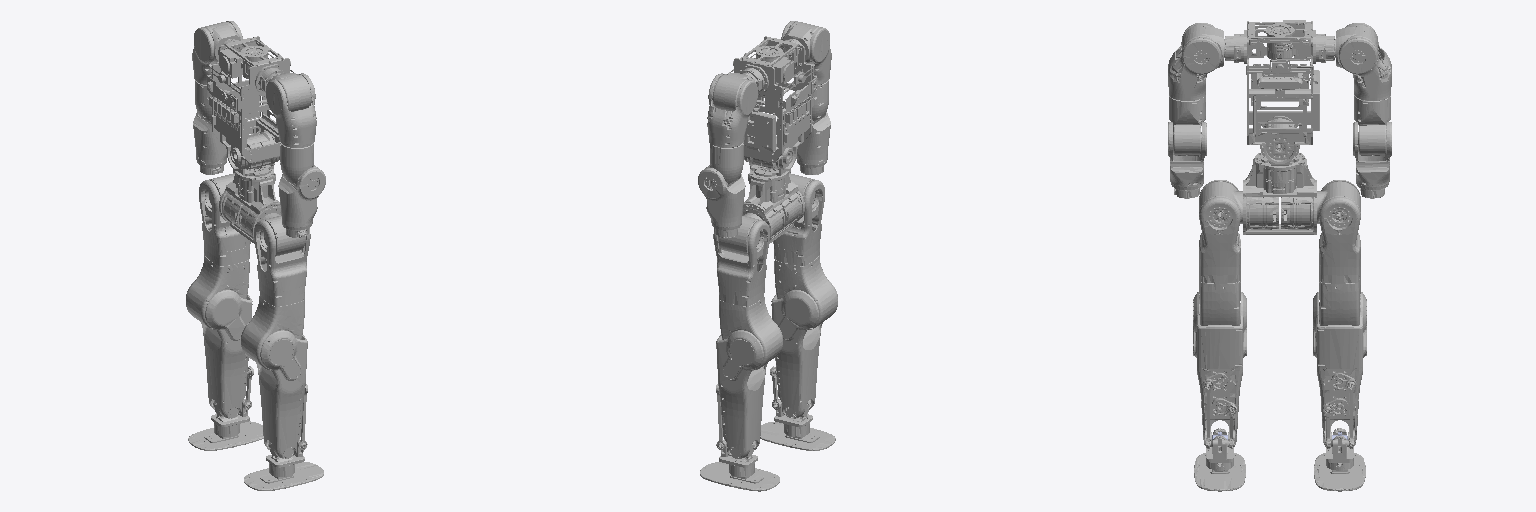
URDF robot description (gp2):
<?xml version='1.0' encoding='utf-8'?>
  <!-- This URDF was automatically created by SolidWorks to URDF Exporter! Originally created by [author] ([email redacted]) 
     Commit Version: 1.6.0-4-g7f85cfe  Build Version: 1.6.7995.38578
     For more information, please see http://wiki.ros.org/sw_urdf_exporter -->
<robot
  name="gp2">
  <mujoco>
        <compiler meshdir="../meshes/" balanceinertia="true" discardvisual="false" fusestatic="false"/>
  </mujoco>

  <link name="base_link">
    <inertial>
      <origin xyz="0 -0.004 0.025" rpy="0 0 0" />
      <mass value="0.987" />
      <inertia ixx="0.006" ixy="0" ixz="0" iyy="0.004" iyz="0" izz="0.003" />
    </inertial>
    <visual>
      <origin xyz="0 0 0" rpy="0 0 0" />
      <geometry>
        <mesh filename="../meshes/base_link.STL" />
      </geometry>
      <material name="">
        <color rgba="0.752941176470588 0.752941176470588 0.752941176470588 1" />
      </material>
    </visual>
    <collision>
      <origin xyz="0 0 0" rpy="0 0 0" />
      <geometry>
        <mesh filename="../meshes/base_link.STL" />
      </geometry>
    </collision>
  </link>

  <!-- Legs -->
  <link name="left_hip_pitch_link">
    <inertial>
      <origin xyz="0.002 0.045 0" rpy="0 0 0" />
      <mass value="0.422" />
      <inertia ixx="0.001" ixy="0" ixz="0" iyy="0.001" iyz="0" izz="0.001" />
    </inertial>
    <visual>
      <origin xyz="0 0 0" rpy="0 0 0" />
      <geometry>
        <mesh filename="../meshes/L_hip_pitch_link.STL" />
      </geometry>
      <material name="">
        <color rgba="0.75294 0.75294 0.75294 1" />
      </material>
    </visual>
    <!-- <collision>
      <origin xyz="0 0 0" rpy="0 0 0" />
      <geometry>
        <mesh filename="../meshes/L_hip_pitch_link.STL" />
      </geometry>
    </collision> -->
  </link>
  <joint name="left_hip_pitch_joint" type="revolute">
    <origin xyz="0 0.0790000000000005 0" rpy="0 0 0" />
    <parent link="base_link" />
    <child link="left_hip_pitch_link" />
    <axis xyz="0 1 0" />
    <limit lower="-2.62" upper="2.62" effort="88" velocity="32"/>
  </joint>
  <link name="left_hip_roll_link">
    <inertial>
      <origin xyz="-0.032 -0.001 -0.078" rpy="0 0 0" />
      <mass value="0.785" />
      <inertia ixx="0.008" ixy="0" ixz="0.002" iyy="0.009" iyz="0" izz="0.002" />
    </inertial>
    <visual>
      <origin xyz="0 0 0" rpy="0 0 0" />
      <geometry>
        <mesh filename="../meshes/L_hip_roll_link.STL" />
      </geometry>
      <material name="">
        <color rgba="0.752941176470588 0.752941176470588 0.752941176470588 1" />
      </material>
    </visual>
    <!-- <collision>
      <origin xyz="0 0 0" rpy="0 0 0" />
      <geometry>
        <mesh filename="../meshes/L_hip_roll_link.STL" />
      </geometry>
    </collision> -->
  </link>
  <joint name="left_hip_roll_joint" type="revolute">
    <origin xyz="0.0365999999999998 0.0499999999999994 0" rpy="0 0 0" />
    <parent link="left_hip_pitch_link" />
    <child link="left_hip_roll_link" />
    <axis xyz="1 0 0" />
    <limit lower="-0.17" upper="3.32" effort="88" velocity="32"/>
  </joint>
  <link name="left_hip_yaw_link">
    <inertial>
      <origin xyz="-0.019 -0.007 -0.08" rpy="0 0 0" />
      <mass value="0.865" />
      <inertia ixx="0.008" ixy="0" ixz="0.002" iyy="0.009" iyz="0" izz="0.002" />
    </inertial>
    <visual>
      <origin xyz="0 0 0" rpy="0 0 0" />
      <geometry>
        <mesh filename="../meshes/L_hip_yaw_link.STL" />
      </geometry>
      <material name="">
        <color rgba="0.752941176470588 0.752941176470588 0.752941176470588 1" />
      </material>
    </visual>
    <!-- <collision>
      <origin xyz="0 0 0" rpy="0 0 0" />
      <geometry>
        <mesh filename="../meshes/L_hip_yaw_link.STL" />
      </geometry>
    </collision> -->
  </link>
  <joint name="left_hip_yaw_joint" type="revolute">
    <origin xyz="-0.0365999999999971 0 -0.156600000000001" rpy="0 0 0" />
    <parent link="left_hip_roll_link" />
    <child link="left_hip_yaw_link" />
    <axis xyz="0 0 1" />
    <limit lower="-2.62" upper="2.62" effort="88" velocity="32"/>
  </joint>
  <link name="left_knee_link">
    <inertial>
      <origin xyz="0.033 -0.041 -0.132" rpy="0 0 0" />
      <mass value="2.033" />
      <inertia ixx="0.058" ixy="0" ixz="0" iyy="0.056" iyz="0" izz="0.011" />
    </inertial>
    <visual>
      <origin xyz="0 0 0" rpy="0 0 0" />
      <geometry>
        <mesh filename="../meshes/L_knee_link.STL" />
      </geometry>
      <material name="">
        <color rgba="0.752941176470588 0.752941176470588 0.752941176470588 1" />
      </material>
    </visual>
    <!-- <collision>
      <origin xyz="0 0 0" rpy="0 0 0" />
      <geometry>
        <mesh filename="../meshes/L_knee_link.STL" />
      </geometry>
    </collision> -->
  </link>
  <joint name="left_knee_joint" type="revolute">
    <origin xyz="-0.0349999999999989 0.0406000000000009 -0.113900000000001" rpy="0 0 0" />
    <parent link="left_hip_yaw_link" />
    <child link="left_knee_link" />
    <axis xyz="0 1 0" />
    <limit lower="-0.17" upper="2.97" effort="139" velocity="20"/>
  </joint>
  <link name="left_ankle_pitch_link">
    <inertial>
      <origin xyz="0 -0.016 0" rpy="0 0 0" />
      <mass value="0.056" />
      <inertia ixx="0.0001" ixy="0" ixz="0" iyy="0.0001" iyz="0" izz="0.0001" />
    </inertial>
    <visual>
      <origin xyz="0 0 0" rpy="0 0 0" />
      <geometry>
        <mesh filename="../meshes/L_ankle_pitch_link.STL" />
      </geometry>
      <material name="">
        <color rgba="0.792156862745098 0.819607843137255 0.929411764705882 1" />
      </material>
    </visual>
    <!-- <collision>
      <origin xyz="0 0 0" rpy="0 0 0" />
      <geometry>
        <mesh filename="../meshes/L_ankle_pitch_link.STL" />
      </geometry>
    </collision> -->
  </link>
  <joint name="left_ankle_pitch_joint" type="revolute">
    <origin xyz="0.0349999999999996 -0.0241 -0.279999999999994" rpy="0 0 0" />
    <parent link="left_knee_link" />
    <child link="left_ankle_pitch_link" />
    <axis xyz="0 1 0" />
    <limit lower="-0.87267" upper="0.5236" effort="50" velocity="37"/>
  </joint>
  <link name="left_ankle_roll_link">
    <inertial>
      <origin xyz="-0.006 0 -0.046" rpy="0 0 0" />
      <mass value="0.625" />
      <inertia ixx="0.002" ixy="0" ixz="0" iyy="0.003" iyz="0" izz="0.001" />
    </inertial>
    <visual>
      <origin xyz="0 0 0" rpy="0 0 0" />
      <geometry>
        <mesh filename="../meshes/L_ankle_roll_link.STL" />
      </geometry>
      <material name="">
        <color rgba="0.752941176470588 0.752941176470588 0.752941176470588 1" />
      </material>
    </visual>
    <collision>
      <origin xyz="0 0 0" rpy="0 0 0" />
      <geometry>
        <mesh filename="../meshes/L_ankle_roll_link.STL" />
      </geometry>
    </collision>
  </link>
  <joint name="left_ankle_roll_joint" type="revolute">
    <origin xyz="0.015 -0.0165 0" rpy="0 0 0" />
    <parent link="left_ankle_pitch_link" />
    <child link="left_ankle_roll_link" />
    <axis xyz="1 0 0" />
    <limit lower="-0.2618" upper="0.2618" effort="50" velocity="37"/>
  </joint>
  <link name="right_hip_pitch_link">
    <inertial>
      <origin xyz="0.002 -0.045 0" rpy="0 0 0" />
      <mass value="0.422" />
      <inertia ixx="0.001" ixy="0" ixz="0" iyy="0.001" iyz="0" izz="0.001" />
    </inertial>
    <visual>
      <origin xyz="0 0 0" rpy="0 0 0" />
      <geometry>
        <mesh filename="../meshes/R_hip_pitch_link.STL" />
      </geometry>
      <material name="">
        <color rgba="0.75294 0.75294 0.75294 1" />
      </material>
    </visual>
    <!-- <collision>
      <origin xyz="0 0 0" rpy="0 0 0" />
      <geometry>
        <mesh filename="../meshes/R_hip_pitch_link.STL" />
      </geometry>
    </collision> -->
  </link>
  <joint name="right_hip_pitch_joint" type="revolute">
    <origin xyz="0 -0.079 0" rpy="0 0 0" />
    <parent link="base_link" />
    <child link="right_hip_pitch_link" />
    <axis xyz="0 1 0" />
    <limit lower="-2.62" upper="2.62" effort="88" velocity="32"/>
  </joint>
  <link name="right_hip_roll_link">
    <inertial>
      <origin xyz="-0.032 0.001 -0.078" rpy="0 0 0" />
      <mass value="0.785" />
      <inertia ixx="0.008" ixy="0" ixz="0.002" iyy="0.009" iyz="0" izz="0.002" />
    </inertial>
    <visual>
      <origin xyz="0 0 0" rpy="0 0 0" />
      <geometry>
        <mesh filename="../meshes/R_hip_roll_link.STL" />
      </geometry>
      <material name="">
        <color rgba="0.75294 0.75294 0.75294 1" />
      </material>
    </visual>
    <!-- <collision>
      <origin xyz="0 0 0" rpy="0 0 0" />
      <geometry>
        <mesh filename="../meshes/R_hip_roll_link.STL" />
      </geometry>
    </collision> -->
  </link>
  <joint name="right_hip_roll_joint" type="revolute">
    <origin xyz="0.0366 -0.05 0" rpy="0 0 0" />
    <parent link="right_hip_pitch_link" />
    <child link="right_hip_roll_link" />
    <axis xyz="1 0 0" />
    <limit lower="-3.32" upper="0.17" effort="88" velocity="32"/>
  </joint>
  <link name="right_hip_yaw_link">
    <inertial>
      <origin xyz="-0.019 0.007 -0.08" rpy="0 0 0" />
      <mass value="0.865" />
      <inertia ixx="0.008" ixy="0" ixz="0.002" iyy="0.009" iyz="0" izz="0.002" />
    </inertial>
    <visual>
      <origin xyz="0 0 0" rpy="0 0 0" />
      <geometry>
        <mesh filename="../meshes/R_hip_yaw_link.STL" />
      </geometry>
      <material name="">
        <color rgba="0.75294 0.75294 0.75294 1" />
      </material>
    </visual>
    <!-- <collision>
      <origin xyz="0 0 0" rpy="0 0 0" />
      <geometry>
        <mesh filename="../meshes/R_hip_yaw_link.STL" />
      </geometry>
    </collision> -->
  </link>
  <joint name="right_hip_yaw_joint" type="revolute">
    <origin xyz="-0.0365999999999974 0 -0.156599999999998" rpy="0 0 0" />
    <parent link="right_hip_roll_link" />
    <child link="right_hip_yaw_link" />
    <axis xyz="0 0 1" />
    <limit lower="-2.62" upper="2.62" effort="88" velocity="32"/>
  </joint>
  <link name="right_knee_link">
    <inertial>
      <origin xyz="0.033 0.041 -0.132" rpy="0 0 0" />
      <mass value="2.033" />
      <inertia ixx="0.058" ixy="0" ixz="0" iyy="0.056" iyz="0" izz="0.011" />
    </inertial>
    <visual>
      <origin xyz="0 0 0" rpy="0 0 0" />
      <geometry>
        <mesh filename="../meshes/R_knee_link.STL" />
      </geometry>
      <material name="">
        <color rgba="0.75294 0.75294 0.75294 1" />
      </material>
    </visual>
    <!-- <collision>
      <origin xyz="0 0 0" rpy="0 0 0" />
      <geometry>
        <mesh filename="../meshes/R_knee_link.STL" />
      </geometry>
    </collision> -->
  </link>
  <joint name="right_knee_joint" type="revolute">
    <origin xyz="-0.0349999999999989 -0.0406000000000009 -0.113900000000001" rpy="0 0 0" />
    <parent link="right_hip_yaw_link" />
    <child link="right_knee_link" />
    <axis xyz="0 1 0" />
    <limit lower="-0.17" upper="2.97" effort="139" velocity="20"/>
  </joint>
  <link name="right_ankle_pitch_link">
    <inertial>
      <origin xyz="0 0.017 0" rpy="0 0 0" />
      <mass value="0.056" />
      <inertia ixx="0.0001" ixy="0" ixz="0" iyy="0.0001" iyz="0" izz="0.0001" />
    </inertial>
    <visual>
      <origin xyz="0 0 0" rpy="0 0 0" />
      <geometry>
        <mesh filename="../meshes/R_ankle_pitch_link.STL" />
      </geometry>
      <material name="">
        <color rgba="0.79216 0.81961 0.93333 1" />
      </material>
    </visual>
    <!-- <collision>
      <origin xyz="0 0 0" rpy="0 0 0" />
      <geometry>
        <mesh filename="../meshes/R_ankle_pitch_link.STL" />
      </geometry>
    </collision> -->
  </link>
  <joint name="right_ankle_pitch_joint" type="revolute">
    <origin xyz="0.0349999999999923 0.0241 -0.279999999999994" rpy="0 0 0" />
    <parent link="right_knee_link" />
    <child link="right_ankle_pitch_link" />
    <axis xyz="0 1 0" />
    <limit lower="-0.87267" upper="0.5236" effort="50" velocity="37"/>
  </joint>
  <link name="right_ankle_roll_link">
    <inertial>
      <origin xyz="-0.006 0 -0.046" rpy="0 0 0" />
      <mass value="0.625" />
      <inertia ixx="0.002" ixy="0" ixz="0" iyy="0.003" iyz="0" izz="0.001" />
    </inertial>
    <visual>
      <origin xyz="0 0 0" rpy="0 0 0" />
      <geometry>
        <mesh filename="../meshes/R_ankle_roll_link.STL" />
      </geometry>
      <material name="">
        <color rgba="0.75294 0.75294 0.75294 1" />
      </material>
    </visual>
    <collision>
      <origin xyz="0 0 0" rpy="0 0 0" />
      <geometry>
        <mesh filename="../meshes/R_ankle_roll_link.STL" />
      </geometry>
    </collision>
  </link>
  <joint name="right_ankle_roll_joint" type="revolute">
    <origin xyz="0.015 0.0165 0" rpy="0 0 0" />
    <parent link="right_ankle_pitch_link" />
    <child link="right_ankle_roll_link" />
    <axis xyz="1 0 0" />
    <limit lower="-0.2618" upper="0.2618" effort="50" velocity="37"/>
  </joint>

  <!-- Torso -->
  <link name="waist_yaw_link">
    <inertial>
      <origin xyz="0.001 0 0.032" rpy="0 0 0" />
      <mass value="0.237" />
      <inertia ixx="0.001" ixy="0" ixz="0" iyy="0.001" iyz="0" izz="0.001" />
    </inertial>
    <visual>
      <origin xyz="0 0 0" rpy="0 0 0" />
      <geometry>
        <mesh filename="../meshes/waist_yaw_link.STL" />
      </geometry>
      <material name="">
        <color rgba="0.75294 0.75294 0.75294 1" />
      </material>
    </visual>
    <!-- <collision>
      <origin xyz="0 0 0" rpy="0 0 0" />
      <geometry>
        <mesh filename="../meshes/waist_yaw_link.STL" />
      </geometry>
    </collision> -->
  </link>
  <joint name="waist_yaw_joint" type="fixed">
    <origin xyz="0 0 0.116" rpy="0 0 0" />
    <parent link="base_link" />
    <child link="waist_yaw_link" />
    <axis xyz="0 0 1" />
    <limit lower="-2.79" upper="2.79" effort="88" velocity="32"/>
  </joint>
  <link name="torso_link">
    <inertial>
      <origin xyz="-0.038 0.005 0.127" rpy="0 0 0" />
      <mass value="9.36" />
      <inertia ixx="0.244" ixy="-0.003" ixz="-0.048" iyy="0.246" iyz="0.004" izz="0.07" />
    </inertial>
    <visual>
      <origin xyz="0 0 0" rpy="0 0 0" />
      <geometry>
        <mesh filename="../meshes/waist_roll_link.STL" />
      </geometry>
      <material name="">
        <color rgba="0.752941176470588 0.752941176470588 0.752941176470588 1" />
      </material>
    </visual>
    <collision>
      <origin xyz="0 0 0" rpy="0 0 0" />
      <geometry>
        <mesh filename="../meshes/waist_roll_link.STL" />
      </geometry>
    </collision>
  </link>
  <joint name="waist_roll_joint" type="fixed">
    <origin xyz="0.04 2.1468E-05 0.048" rpy="0 0 0" />
    <parent link="waist_yaw_link" />
    <child link="torso_link" />
    <axis xyz="1 0 0" />
    <limit lower="-0.17" upper="0.17" effort="50" velocity="37"/>
  </joint>
  <link name="left_shoulder_pitch_link">
    <inertial>
      <origin xyz="0.005 0.048 -0.001" rpy="0 0 0" />
      <mass value="0.5784" />
      <inertia ixx="0.002" ixy="0" ixz="0" iyy="0.001" iyz="0" izz="0.002" />
    </inertial>
    <visual>
      <origin xyz="0 0 0" rpy="0 0 0" />
      <geometry>
        <mesh filename="../meshes/L_shoulder_pitch_link.STL" />
      </geometry>
      <material name="">
        <color rgba="0.752941176470588 0.752941176470588 0.752941176470588 1" />
      </material>
    </visual>
    <!-- <collision>
      <origin xyz="0 0 0" rpy="0 0 0" />
      <geometry>
        <mesh filename="../meshes/L_shoulder_pitch_link.STL" />
      </geometry>
    </collision> -->
  </link>

  <!-- IMU -->
  <link name="imu_link"></link>
  <joint name="imu_joint" type="fixed">
    <origin xyz="0 0 -0.0057" rpy="0 0 0"/>
    <parent link="base_link"/>
    <child link="imu_link"/>
  </joint>

  <!-- Arm -->
  <joint name="left_shoulder_pitch_joint" type="revolute">
    <origin xyz="-0.0400000000002751 0.118218532124567 0.214500000000062" rpy="0 0 0" />
    <parent link="torso_link" />
    <child link="left_shoulder_pitch_link" />
    <axis xyz="0 1 0" />
    <limit lower="-2.36" upper="2.36" effort="25" velocity="37"/>
  </joint>
  <link name="left_shoulder_roll_link">
    <inertial>
      <origin xyz="-0.035 0.027 -0.073" rpy="0 0 0" />
      <mass value="0.781" />
      <inertia ixx="0.007" ixy="0" ixz="0" iyy="0.008" iyz="0" izz="0.003" />
    </inertial>
    <visual>
      <origin xyz="0 0 0" rpy="0 0 0" />
      <geometry>
        <mesh filename="../meshes/L_shoulder_roll_link.STL" />
      </geometry>
      <material name="">
        <color rgba="0.752941176470588 0.752941176470588 0.752941176470588 1" />
      </material>
    </visual>
    <!-- <collision>
      <origin xyz="0 0 0" rpy="0 0 0" />
      <geometry>
        <mesh filename="../meshes/L_shoulder_roll_link.STL" />
      </geometry>
    </collision> -->
  </link>
  <joint name="left_shoulder_roll_joint" type="fixed">
    <origin xyz="0.0354999999999784 0.0505000000000042 0" rpy="0 0 0" />
    <parent link="left_shoulder_pitch_link" />
    <child link="left_shoulder_roll_link" />
    <axis xyz="1 0 0" />
    <limit lower="0" upper="2.62" effort="25" velocity="37"/>
  </joint>
  <link name="left_shoulder_yaw_link">
    <inertial>
      <origin xyz="0.014 0.004 -0.054" rpy="0 0 0" />
      <mass value="0.66" />
      <inertia ixx="0.003" ixy="0" ixz="-0.001" iyy="0.003" iyz="0" izz="0.001" />
    </inertial>
    <visual>
      <origin xyz="0 0 0" rpy="0 0 0" />
      <geometry>
        <mesh filename="../meshes/L_shoulder_yaw_link.STL" />
      </geometry>
      <material name="">
        <color rgba="0.752941176470588 0.752941176470588 0.752941176470588 1" />
      </material>
    </visual>
    <!-- <collision>
      <origin xyz="0 0 0" rpy="0 0 0" />
      <geometry>
        <mesh filename="../meshes/L_shoulder_yaw_link.STL" />
      </geometry>
    </collision> -->
  </link>
  <joint name="left_shoulder_yaw_joint" type="fixed">
    <origin xyz="-0.0354999999998045 0.0310000000000109 -0.134500000000048" rpy="0 0 0" />
    <parent link="left_shoulder_roll_link" />
    <child link="left_shoulder_yaw_link" />
    <axis xyz="0 0 1" />
    <limit lower="-2.62" upper="2.62" effort="25" velocity="37"/>
  </joint>
  <link name="left_elbow_link">
    <inertial>
      <origin xyz="-0.018 -0.034 -0.078" rpy="0 0 0" />
      <mass value="0.76" />
      <inertia ixx="0.008" ixy="0" ixz="0.001" iyy="0.007" iyz="0.002" izz="0.002" />
    </inertial>
    <visual>
      <origin xyz="0 0 0" rpy="0 0 0" />
      <geometry>
        <mesh filename="../meshes/L_elbow_link.STL" />
      </geometry>
      <material name="">
        <color rgba="0.752941176470588 0.752941176470588 0.752941176470588 1" />
      </material>
    </visual>
    <!-- <collision>
      <origin xyz="0 0 0" rpy="0 0 0" />
      <geometry>
        <mesh filename="../meshes/L_elbow_link.STL" />
      </geometry>
    </collision> -->
  </link>
  <joint name="left_elbow_joint" type="fixed">
    <origin xyz="0.0200000000000853 0.0339999999999863 -0.0704999999999717" rpy="0 0 0" />
    <parent link="left_shoulder_yaw_link" />
    <child link="left_elbow_link" />
    <axis xyz="0 1 0" />
    <limit lower="-1.0492" upper="1.5708" effort="25" velocity="37"/>
  </joint>
  <link name="right_shoulder_pitch_link">
    <inertial>
      <origin xyz="0.005 -0.048 -0.001" rpy="0 0 0" />
      <mass value="0.5784" />
      <inertia ixx="0.002" ixy="0" ixz="0" iyy="0.001" iyz="0" izz="0.002" />
    </inertial>
    <visual>
      <origin xyz="0 0 0" rpy="0 0 0" />
      <geometry>
        <mesh filename="../meshes/R_shoulder_pitch_link.STL" />
      </geometry>
      <material name="">
        <color rgba="0.752941176470588 0.752941176470588 0.752941176470588 1" />
      </material>
    </visual>
    <!-- <collision>
      <origin xyz="0 0 0" rpy="0 0 0" />
      <geometry>
        <mesh filename="../meshes/R_shoulder_pitch_link.STL" />
      </geometry>
    </collision> -->
  </link>
  <joint name="right_shoulder_pitch_joint" type="revolute">
    <origin xyz="-0.040000000000254 -0.118261467873481 0.214500000000056" rpy="0 0 0" />
    <parent link="torso_link" />
    <child link="right_shoulder_pitch_link" />
    <axis xyz="0 1 0" />
    <limit lower="-2.36" upper="2.36" effort="25" velocity="37"/>
  </joint>
  <link name="right_shoulder_roll_link">
    <inertial>
      <origin xyz="-0.035 -0.027 -0.073" rpy="0 0 0" />
      <mass value="0.781" />
      <inertia ixx="0.007" ixy="0" ixz="0" iyy="0.008" iyz="0" izz="0.003" />
    </inertial>
    <visual>
      <origin xyz="0 0 0" rpy="0 0 0" />
      <geometry>
        <mesh filename="../meshes/R_shoulder_roll_link.STL" />
      </geometry>
      <material name="">
        <color rgba="0.752941176470588 0.752941176470588 0.752941176470588 1" />
      </material>
    </visual>
    <!-- <collision>
      <origin xyz="0 0 0" rpy="0 0 0" />
      <geometry>
        <mesh filename="../meshes/R_shoulder_roll_link.STL" />
      </geometry>
    </collision> -->
  </link>
  <joint name="right_shoulder_roll_joint" type="fixed">
    <origin xyz="0.0354999999999967 -0.0504999999999942 0" rpy="0 0 0" />
    <parent link="right_shoulder_pitch_link" />
    <child link="right_shoulder_roll_link" />
    <axis xyz="1 0 0" />
    <limit lower="-2.62" upper="0" effort="25" velocity="37"/>
  </joint>
  <link name="right_shoulder_yaw_link">
    <inertial>
      <origin xyz="-0.004 -0.014 -0.054" rpy="0 0 0" />
      <mass value="0.66" />
      <inertia ixx="0.003" ixy="0" ixz="0" iyy="0.003" iyz="0.001" izz="0.001" />
    </inertial>
    <visual>
      <origin xyz="0 0 0" rpy="0 0 0" />
      <geometry>
        <mesh filename="../meshes/R_shoulder_yaw_link.STL" />
      </geometry>
      <material name="">
        <color rgba="0.752941176470588 0.752941176470588 0.752941176470588 1" />
      </material>
    </visual>
    <!-- <collision>
      <origin xyz="0 0 0" rpy="0 0 0" />
      <geometry>
        <mesh filename="../meshes/R_shoulder_yaw_link.STL" />
      </geometry>
    </collision> -->
  </link>
  <joint name="right_shoulder_yaw_joint" type="fixed">
    <origin xyz="-0.0354999999998123 -0.030999999999994 -0.13450000000005" rpy="0 0 0" />
    <parent link="right_shoulder_roll_link" />
    <child link="right_shoulder_yaw_link" />
    <axis xyz="0 0 1" />
    <limit lower="-2.62" upper="2.62" effort="25" velocity="37"/>
  </joint>
  <link name="right_elbow_link">
    <inertial>
      <origin xyz="-0.02 0.032 -0.078" rpy="0 0 0" />
      <mass value="0.76" />
      <inertia ixx="0.008" ixy="0" ixz="0.001" iyy="0.007" iyz="-0.002" izz="0.002" />
    </inertial>
    <visual>
      <origin xyz="0 0 0" rpy="0 0 0" />
      <geometry>
        <mesh filename="../meshes/R_elbow_link.STL" />
      </geometry>
      <material name="">
        <color rgba="0.752941176470588 0.752941176470588 0.752941176470588 1" />
      </material>
    </visual>
    <!-- <collision>
      <origin xyz="0 0 0" rpy="0 0 0" />
      <geometry>
        <mesh filename="../meshes/R_elbow_link.STL" />
      </geometry>
    </collision> -->
  </link>
  <joint name="right_elbow_joint" type="fixed">
    <origin xyz="0.0200000000001179 -0.0340000000000086 -0.0704999999999668" rpy="0 0 0" />
    <parent link="right_shoulder_yaw_link" />
    <child link="right_elbow_link" />
    <axis xyz="0 1 0" />
    <limit lower="-1.0492" upper="1.5708" effort="25" velocity="37"/>
  </joint>
</robot>

--- What the picture shows (computed from the rendered views, not written in the file) ---
Views: 3 orthographic renders of the robot side by side, from view 1: azimuth 30°, elevation 25°; view 2: azimuth 150°, elevation 25°; view 3: azimuth 270°, elevation 25°.
Model gp2 with 24 links and 23 joints (14 revolute, 9 fixed), rooted at base_link, posed every joint at zero.
Visible links, largest first — view 1: torso_link, right_knee_link, left_knee_link, right_hip_roll_link, base_link, left_hip_roll_link, right_elbow_link, right_hip_yaw_link, left_hip_yaw_link, right_shoulder_roll_link, right_ankle_roll_link, left_ankle_roll_link (+7 smaller); view 2: torso_link, left_knee_link, right_knee_link, left_hip_roll_link, base_link, right_hip_roll_link, left_elbow_link, left_hip_yaw_link, right_hip_yaw_link, left_shoulder_roll_link, left_ankle_roll_link, right_ankle_roll_link (+7 smaller); view 3: torso_link, left_knee_link, right_knee_link, base_link, left_hip_roll_link, right_hip_roll_link, right_shoulder_roll_link, left_shoulder_roll_link, left_ankle_roll_link, right_ankle_roll_link, left_shoulder_yaw_link, right_shoulder_yaw_link (+8 smaller).
Link boxes in pixels (x1,y1,x2,y2): torso_link: (207,36,296,170); right_knee_link: (241,323,307,458); left_knee_link: (186,281,253,418); right_hip_roll_link: (254,220,310,306); base_link: (219,169,280,243); left_hip_roll_link: (199,180,250,265); right_elbow_link: (278,168,325,237); right_hip_yaw_link: (241,296,304,370); left_hip_yaw_link: (186,255,249,329); right_shoulder_roll_link: (266,73,316,147); right_ankle_roll_link: (244,439,323,490); left_ankle_roll_link: (188,399,263,450); torso_link: (727,36,817,170); left_knee_link: (716,323,782,458); right_knee_link: (770,281,837,418); left_hip_roll_link: (713,220,769,306); base_link: (742,169,804,243); right_hip_roll_link: (773,180,824,265); left_elbow_link: (698,168,745,237); left_hip_yaw_link: (719,297,782,370); right_hip_yaw_link: (774,255,837,329); left_shoulder_roll_link: (707,73,757,147); left_ankle_roll_link: (700,439,779,491); right_ankle_roll_link: (760,399,835,450); torso_link: (1225,20,1334,163); left_knee_link: (1313,292,1366,448); right_knee_link: (1193,292,1246,448); base_link: (1243,153,1316,234); left_hip_roll_link: (1319,180,1360,283); right_hip_roll_link: (1199,180,1240,283); right_shoulder_roll_link: (1168,23,1220,100); left_shoulder_roll_link: (1339,23,1391,100); left_ankle_roll_link: (1314,428,1365,491); right_ankle_roll_link: (1194,428,1245,491); left_shoulder_yaw_link: (1354,95,1390,154); right_shoulder_yaw_link: (1169,95,1205,154).
Bounding box of the posed robot: 0.201 × 0.4845 × 1.05 m (x, y, z).
Meshes: 23 distinct files referenced, 23 mesh visuals loaded (23 binary STL).
